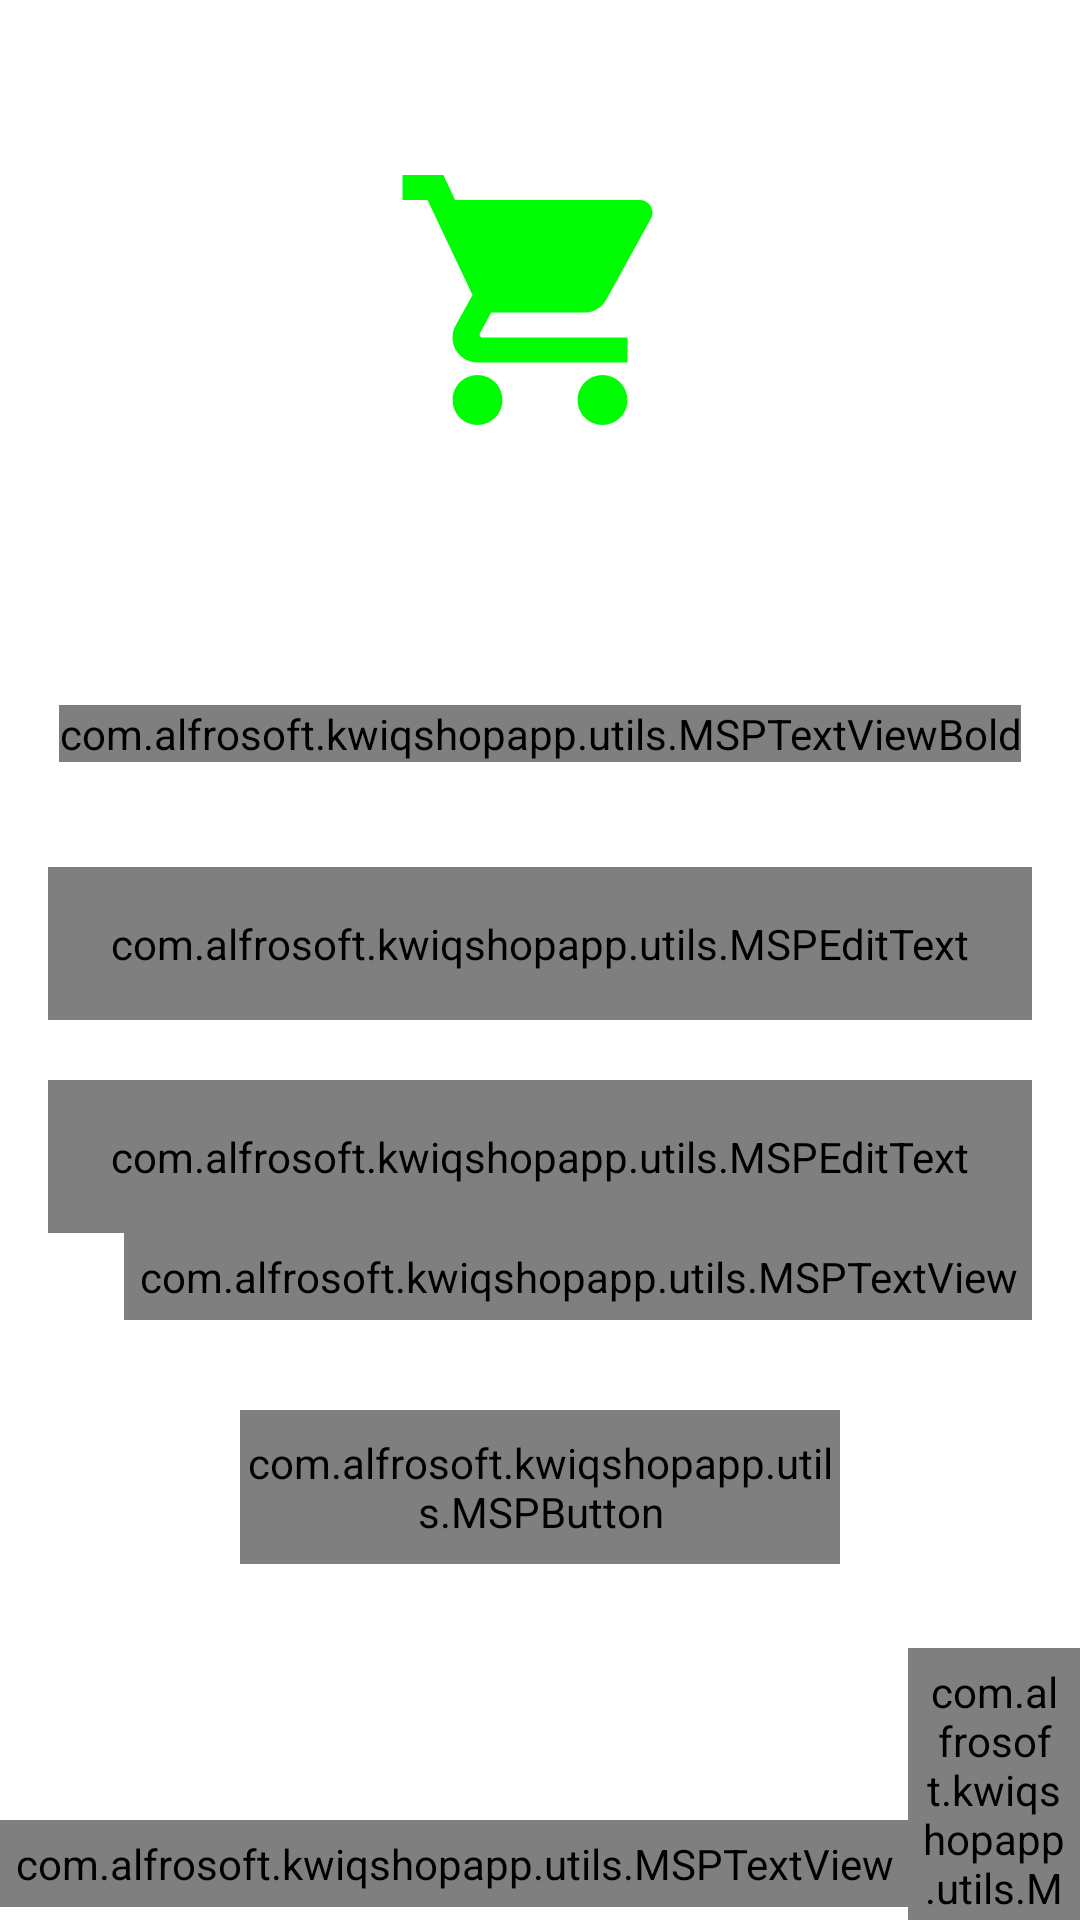

Named icons in this screenshot (1080px x 1920px) and their bounding boxes, [left=x1, top=y1, right=x2, bottom=y2]:
shopping cart: [left=402, top=175, right=653, bottom=425]
